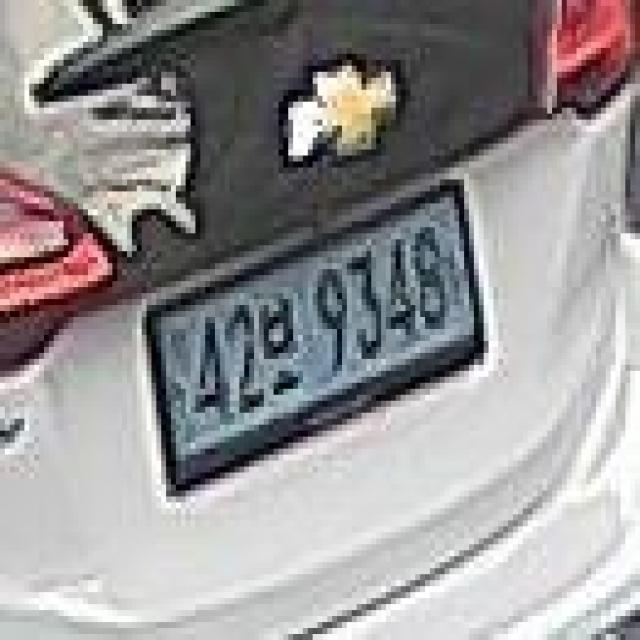EV_plate: (142, 180, 492, 488)
